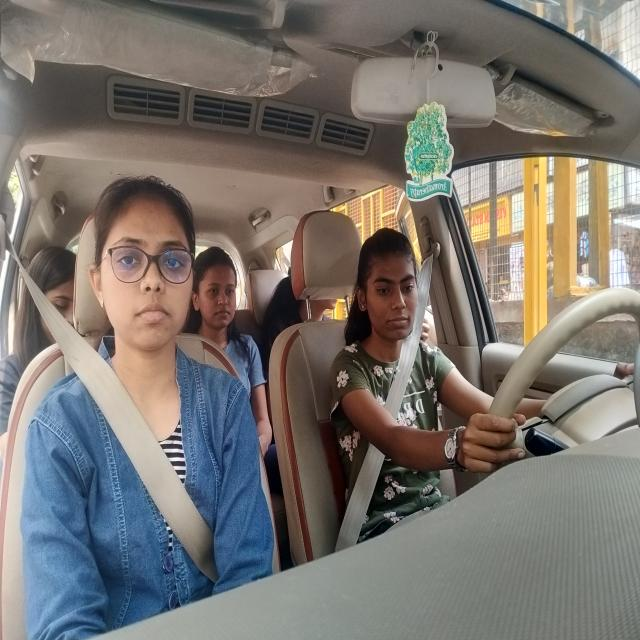person: (86, 159, 198, 370), (184, 222, 256, 356), (17, 218, 80, 364)
